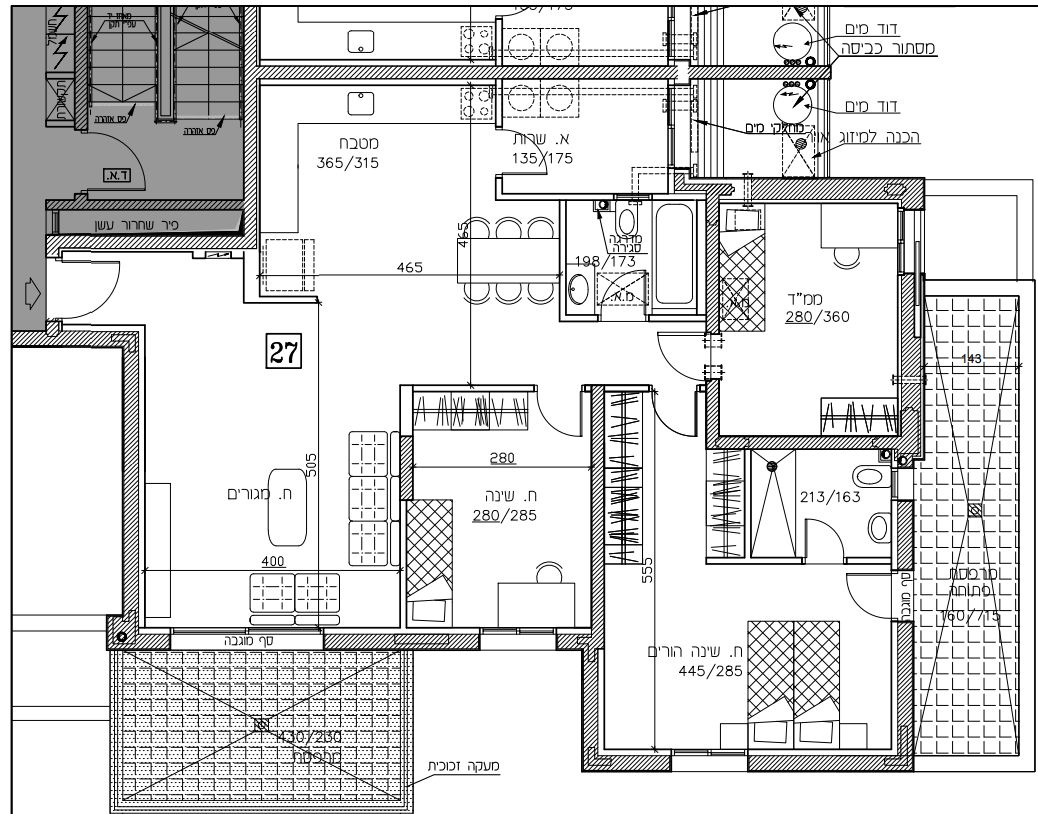door: (66, 254, 124, 320), (648, 395, 704, 444), (534, 395, 590, 444), (841, 566, 885, 626), (799, 513, 848, 552)
wall: (257, 66, 672, 79), (124, 331, 138, 615), (751, 179, 925, 200), (591, 385, 604, 650), (46, 234, 258, 249), (245, 7, 257, 249), (705, 435, 896, 450), (747, 756, 914, 773), (896, 623, 914, 772), (706, 183, 720, 333), (689, 67, 831, 79), (897, 500, 915, 572)
window: (171, 627, 323, 649), (897, 208, 925, 275), (479, 627, 556, 649), (671, 748, 747, 770)
